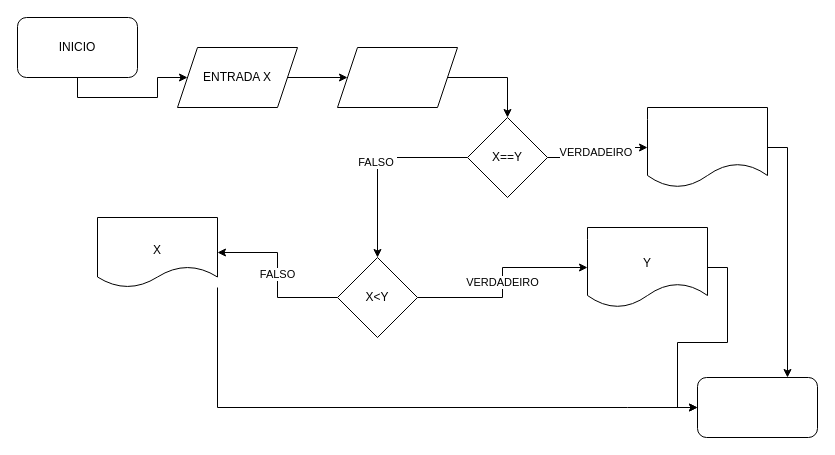
Image size: 835x455. Some labels were removed from this diagram. The shapes that lost their labels are listed below. From the top down, each one's centre as x and y in pixels, then its label:
At (397,77): "ENTRADA Y".
At (707,147): "SAO IQUAIS".
At (757,407): "FIM".
